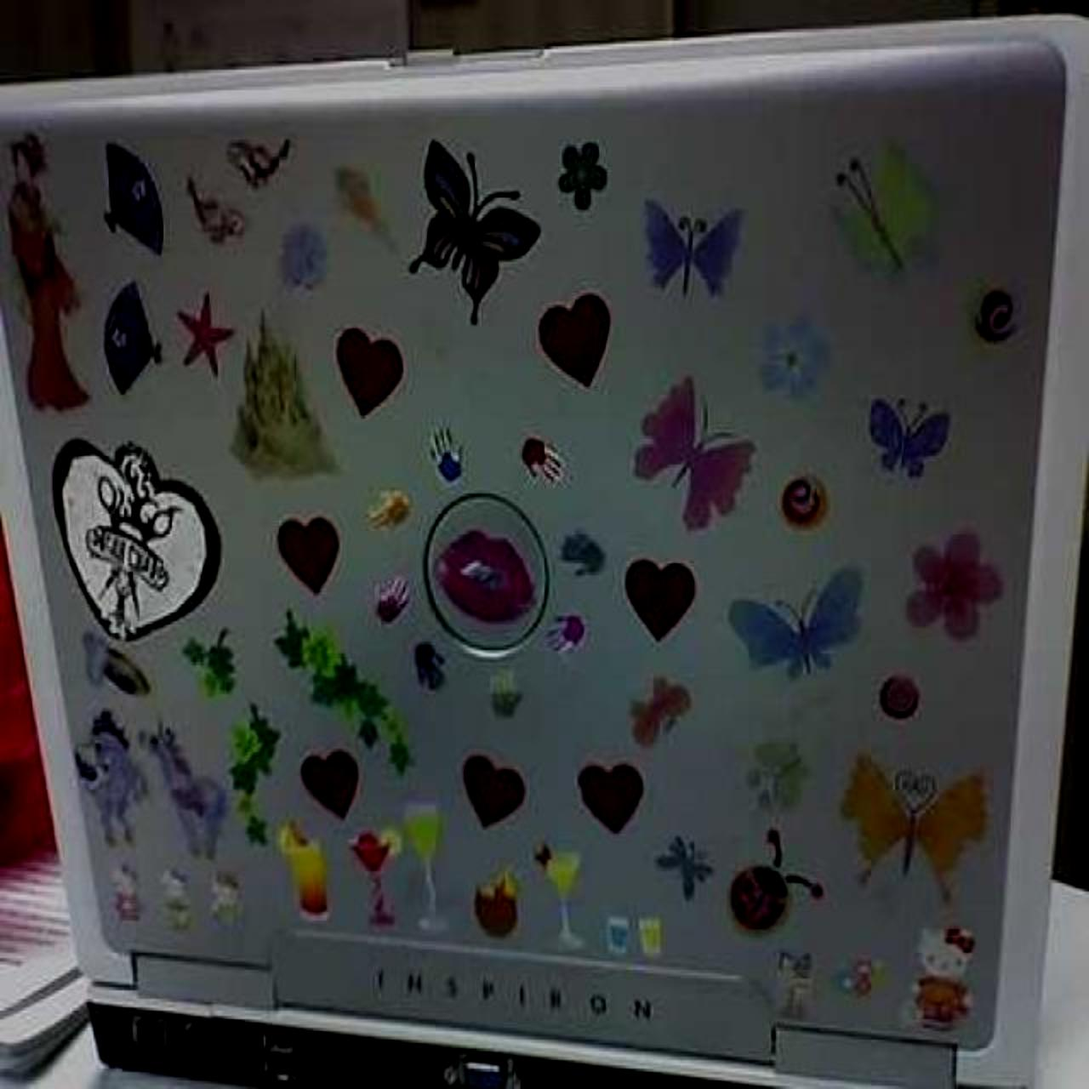laptop: (0, 95, 1089, 1089)
